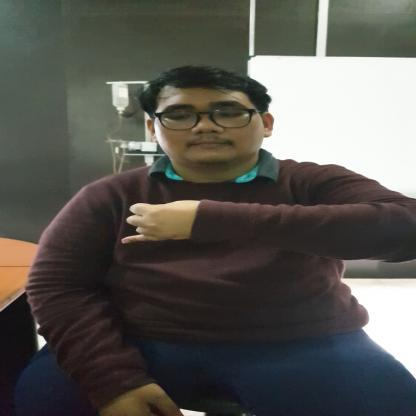J: (120, 200, 204, 246)
